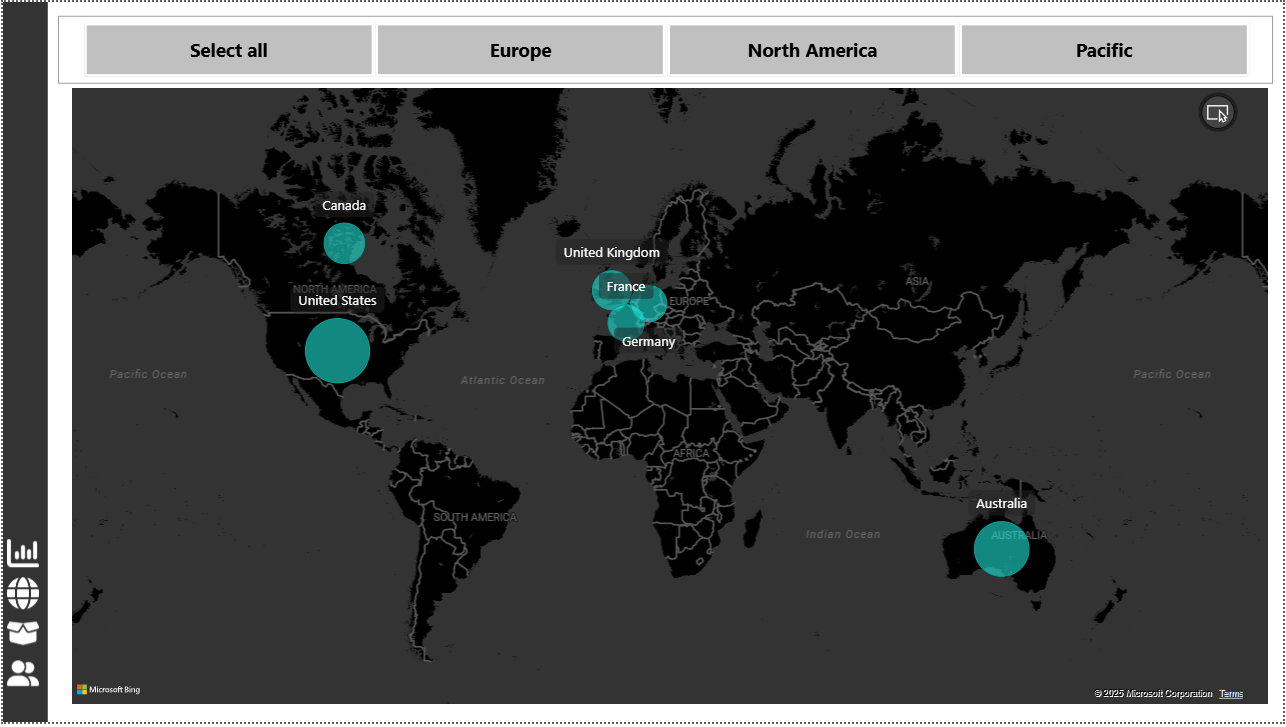

The page's visual inventory and layout, read from the dashboard file:
{"tool":"powerbi","page":{"name":"Map","canvas":[1280,720],"ordinal":1},"visuals":[{"type":"shape","box":[0,0,45,720],"z":0},{"type":"actionButton","box":[0,531.2,45,40],"z":0,"group":"g1"},{"type":"map","fields":{"Category":["Territory Lookup.Country"],"Size":["Measure Table.Total Orders"]},"box":[63.5,80.8,1206.1,626.2],"z":1000},{"type":"actionButton","box":[0,571.2,45,40],"z":1000,"group":"g1"},{"type":"slicer","fields":{"Values":["Territory Lookup.Continent"]},"box":[55,13.8,1215,67.5],"z":2000},{"type":"actionButton","box":[0,611.2,45,40],"z":2000,"group":"g1"},{"type":"group","id":"g1","title":"Navigation Buttons","box":[0,531.2,45,160],"z":3000},{"type":"actionButton","box":[0,651.2,45,40],"z":3000,"group":"g1"}]}

Visuals, with their boxes in screenshot pixels (x1, y1, x2, y2):
shape: [0, 3, 45, 717]
actionButton: [0, 530, 45, 569]
map - Territory Lookup.Country x Measure Table.Total Orders: [63, 83, 1258, 704]
actionButton: [0, 569, 45, 609]
slicer - Territory Lookup.Continent: [54, 17, 1258, 84]
actionButton: [0, 609, 45, 649]
"Navigation Buttons" group: [0, 530, 45, 688]
actionButton: [0, 649, 45, 688]
